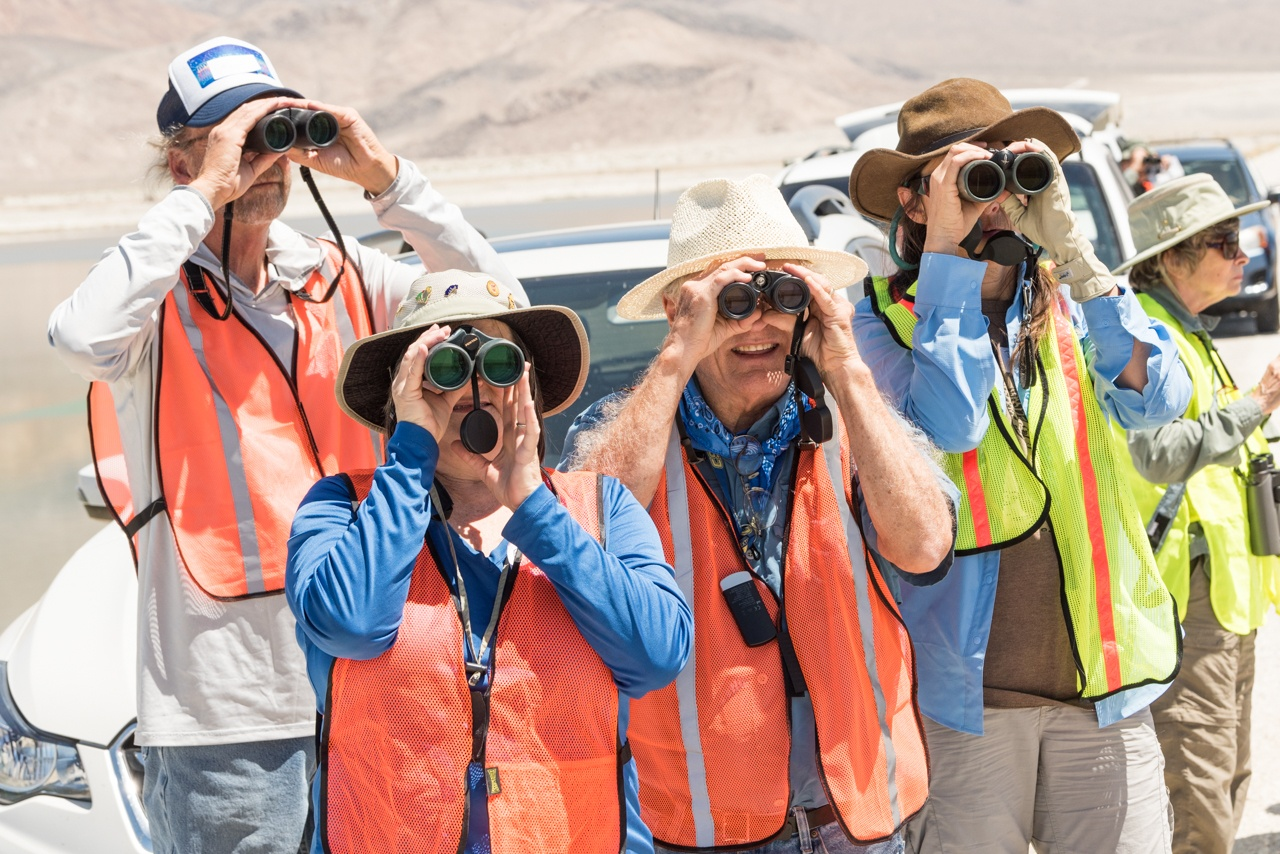person with partial safety: (72, 47, 426, 854), (868, 86, 1166, 854), (583, 197, 930, 851), (322, 263, 642, 854), (1112, 162, 1278, 854)
safety vest: (620, 382, 930, 834), (890, 277, 1174, 704), (335, 474, 612, 854), (129, 252, 394, 591), (1119, 291, 1280, 632)
